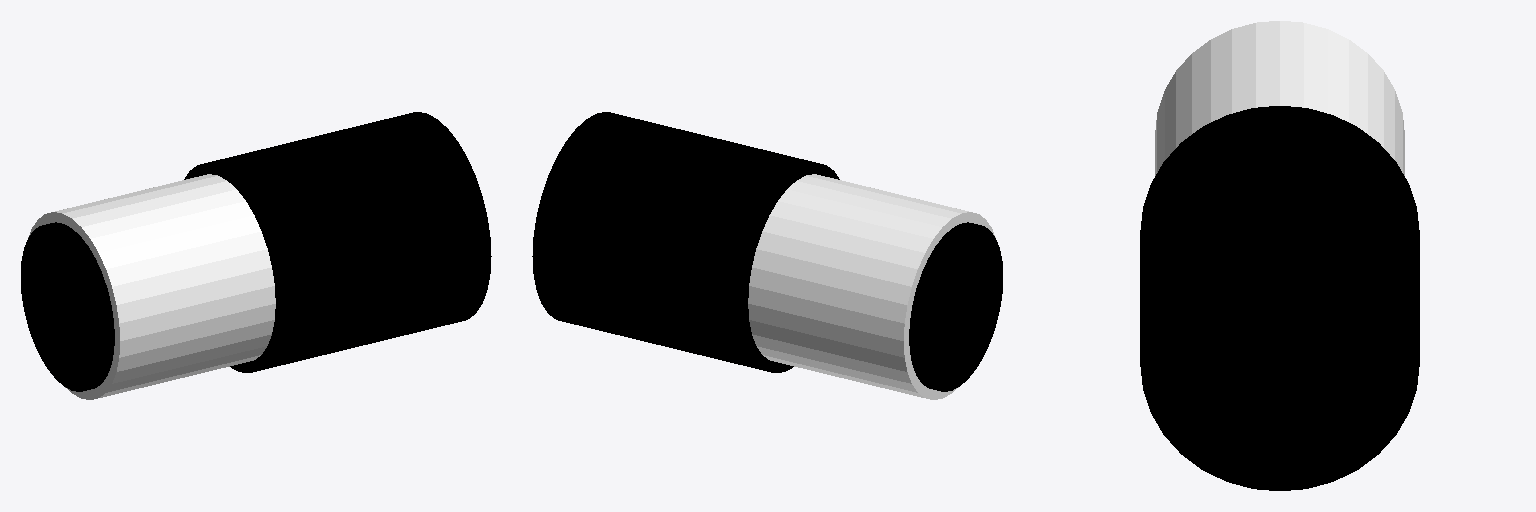
URDF robot description (big_plug):
<robot
  name="big_plug">
  <link name="base_link">
    <inertial>
      <origin xyz="0 0 0"
        rpy="0 0 0" />
      <mass value="0.138" />
      <inertia
        ixx="0.000063"
        ixy="0"
        ixz="0"
        iyy="0.000243"
        iyz="0"
        izz="0.000243" />
    </inertial>
    <visual>
      <origin xyz=".02375 0 0"
        rpy="0 1.57079633 0" />
      <geometry>
        <cylinder length="0.06075" radius=".027" />
      </geometry>
      <material name="">
        <color rgba="0 0 0 0" />
      </material>
    </visual>
<collision>   
 <origin xyz=".02375 0 0"
        rpy="0 1.57079633 0" />
      <geometry>
        <cylinder length="0.06075" radius=".027" />
      </geometry>
      <material name="">
        <color rgba="0 0 0 0" />
      </material>
</collision> 
<visual>
      <origin xyz="-.029125 0 0"
        rpy="0 1.57079633 0" />
      <geometry>
        <cylinder length="0.045" radius=".02415" />
      </geometry>
      <material name="">
        <color rgba="1 1 1 1" />
      </material>
    </visual> 
<collision>   
  <origin xyz="-0.029125 0 0"
        rpy="0 1.57079633 0" />
      <geometry>
        <cylinder length="0.045" radius=".02415" />
      </geometry>
      <material name="">
        <color rgba="1 1 1 1" />
      </material>
</collision> 
<visual>
      <origin xyz="-.0528750 0 0"
        rpy="0 1.57079633 0" />
      <geometry>
        <cylinder length="0.0025" radius=".0215" />
      </geometry>
      <material name="">
        <color rgba="0 0 0 0" />
      </material>
    </visual> 
<collision>   
  <origin xyz="-.0528750 0 0"
        rpy="0 1.57079633 0" />
      <geometry>
        <cylinder length="0.0025" radius=".0215" />
      </geometry>
      <material name="">
        <color rgba="0 0 0 0" />
      </material>
</collision> 
  </link>
 
</robot>

--- What the picture shows (computed from the rendered views, not written in the file) ---
3 views of the same robot in one strip: view 1: azimuth 30°, elevation 25°; view 2: azimuth 150°, elevation 25°; view 3: azimuth 270°, elevation 25° (orthographic).
Model big_plug with 1 links and 0 joints (none), rooted at base_link, posed all joints at 0.
Links seen in each view (by area): view 1: base_link; view 2: base_link; view 3: base_link.
Link boxes in pixels (<box>): base_link: <box>21,112,491,399</box>; base_link: <box>532,112,1002,399</box>; base_link: <box>1140,21,1419,490</box>.
Bounding box of the posed robot: 0.1082 × 0.054 × 0.054 m (x, y, z).
Geometry: primitives only (box / cylinder / sphere), no mesh files.